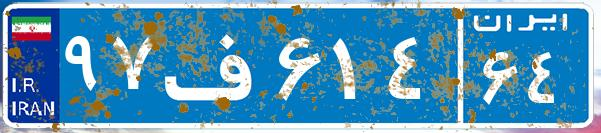1: (330, 28, 385, 110)
4: (385, 28, 445, 110), (525, 38, 570, 115)
6: (273, 28, 330, 110), (475, 38, 525, 113)
7: (110, 28, 158, 105)
9: (57, 26, 110, 107)
ف: (158, 15, 273, 115)
